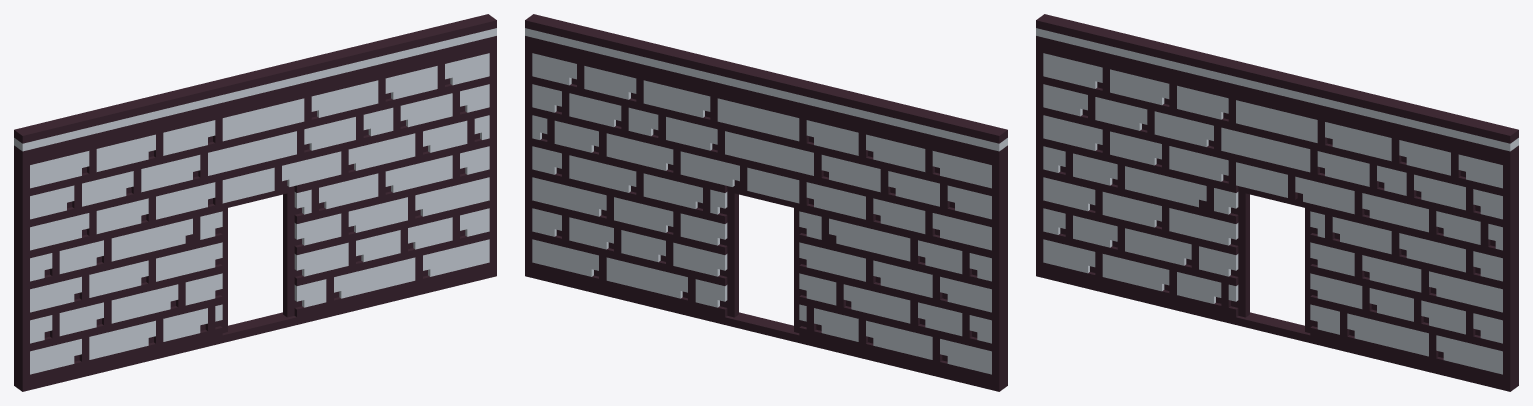
Rendered from Stone Brick Wall (64x32x4) With Door (8x12).fbx.
3 views of the same model, side by side, from view 1: azimuth 30°, elevation 25°; view 2: azimuth 150°, elevation 25°; view 3: azimuth 330°, elevation 25° (orthographic).
Parts seen in each view (by area): view 1: generated; view 2: generated; view 3: generated.
Part boxes in pixels (<box>): generated: <box>14,14,496,391</box>; generated: <box>525,14,1007,391</box>; generated: <box>1036,14,1518,391</box>.
Bounding box in the file's own units: 2560 × 1320 × 80.
